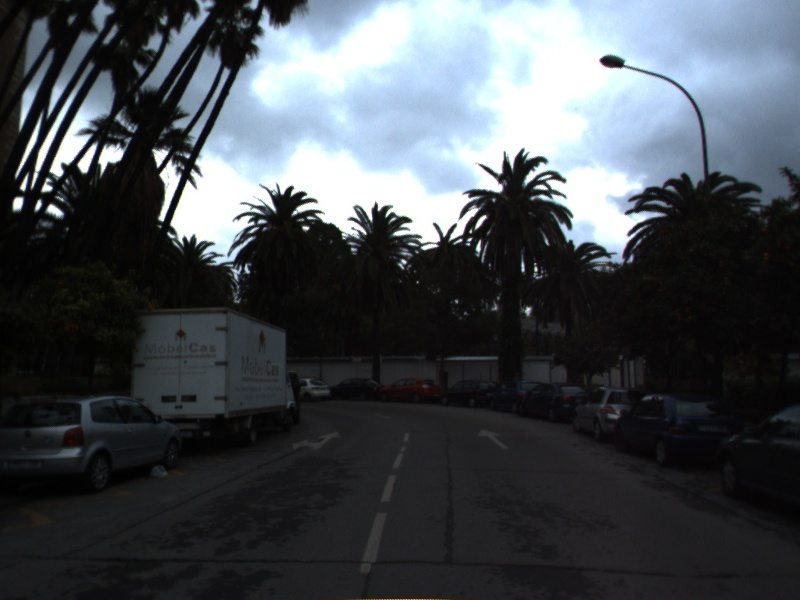STRAIGHT: (475, 427, 511, 451)
STRAIGHT_LEFT: (291, 429, 343, 452)
